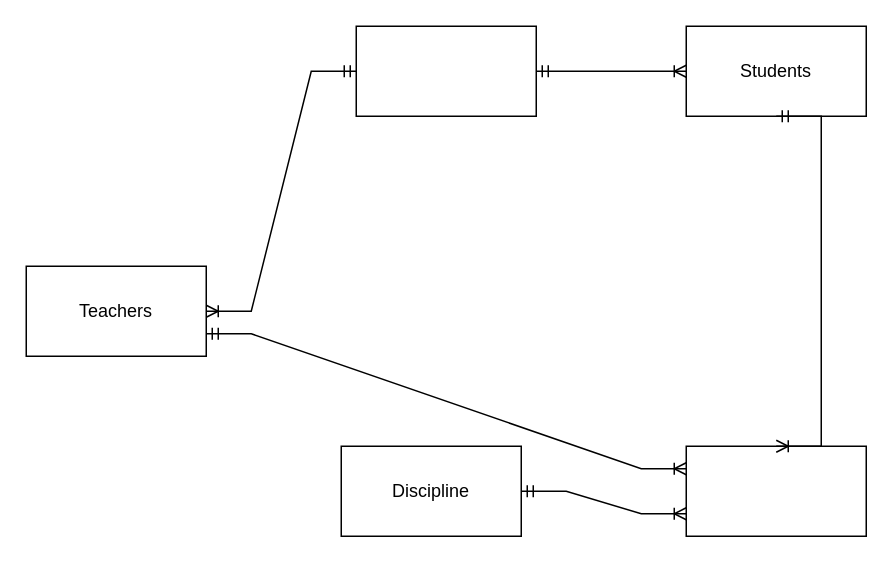
The diagram is 893 pixels wide and 563 high, and some of its shapes have lost their labels. Here are the shapes that lost their labels. From the top down, the box of each, then its label:
(355, 25, 536, 116): Department
(685, 445, 866, 536): ReportCard
